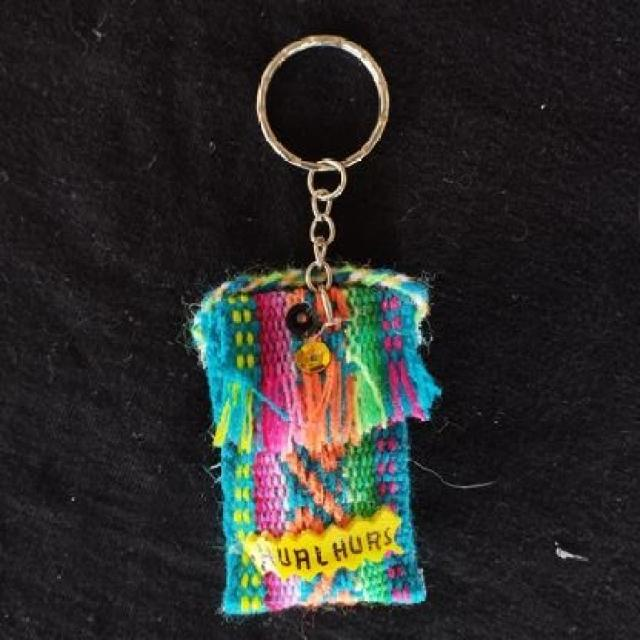Llavero: (188, 260, 443, 618)
